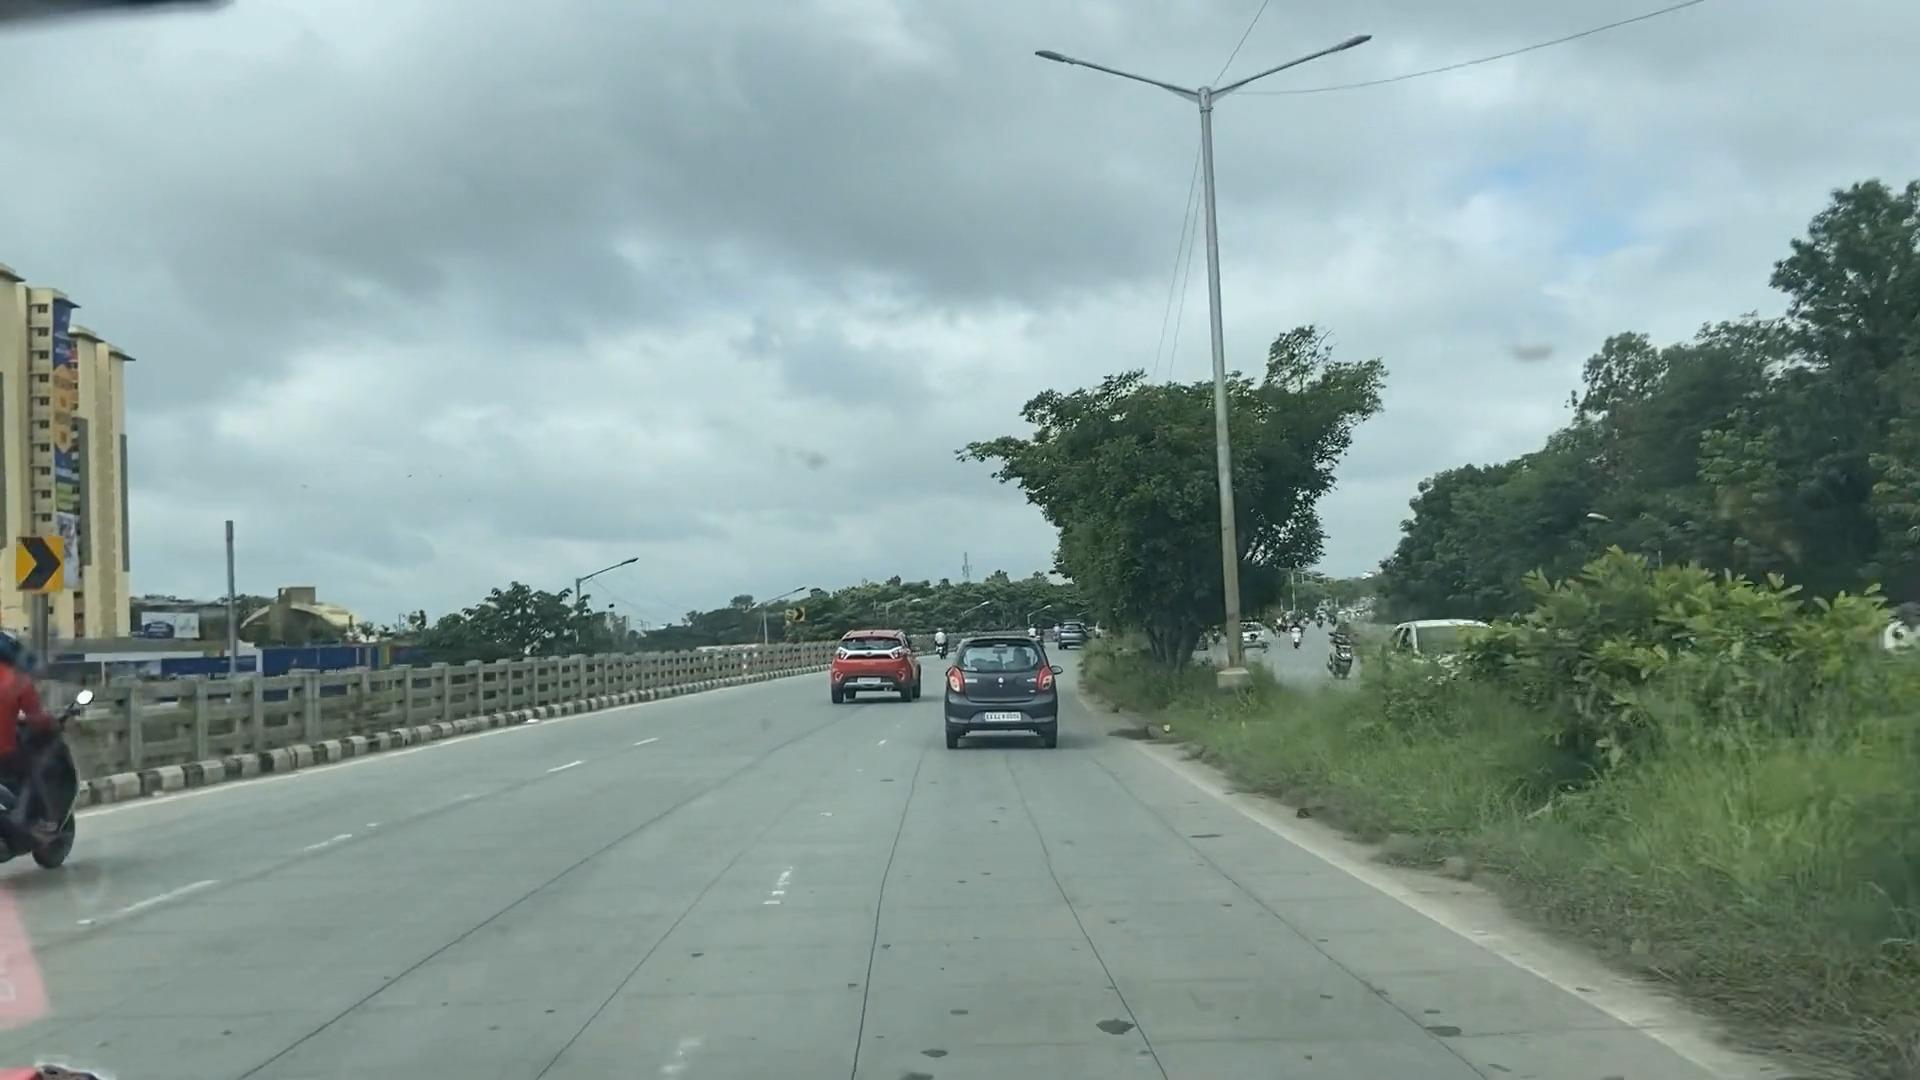LMV: (952, 636, 1063, 758), (824, 632, 910, 692)
